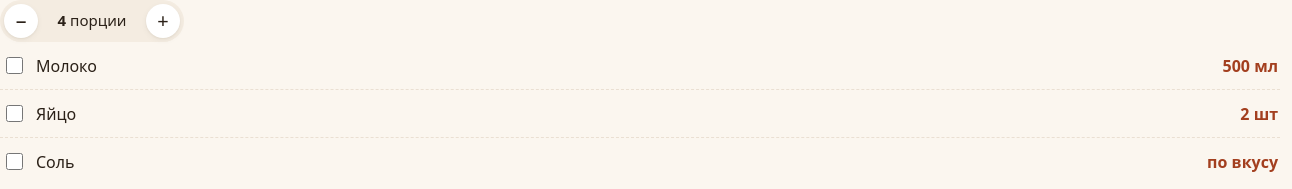
Test case: ServingsControl + IngredientList › пересчитывает количество ингредиентов при изменении порций
The width and height of the screenshot is (1292, 189).
Expected: the text with test id "ingredient-amount" reads "500 мл", top-left (1222, 55), bottom-right (1278, 77)
Click the button named "Уменьшить количество порций".
click(21, 21)  # box top-left (4, 4), bottom-right (38, 38)
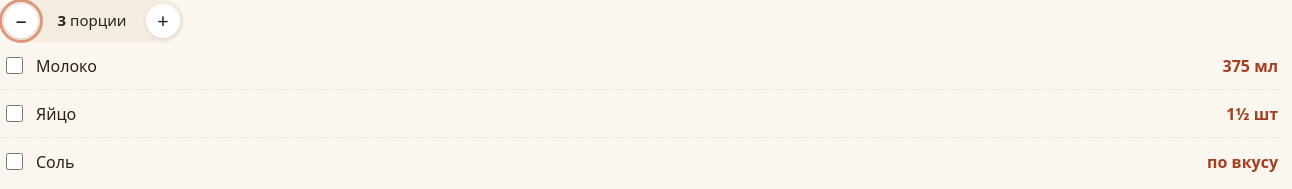
Click the button named "Уменьшить количество порций".
click(21, 21)  # box top-left (4, 4), bottom-right (38, 38)
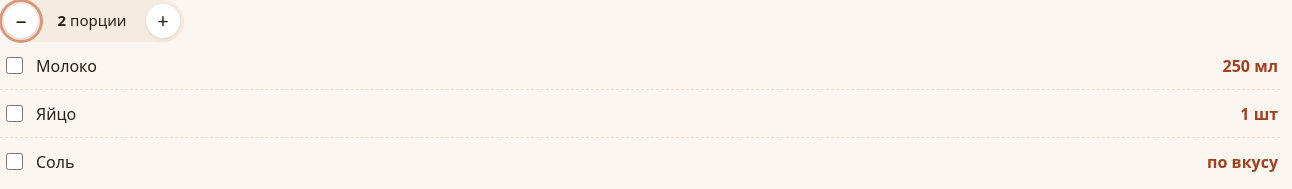
Expected: the text "порции" reads "2 порции", top-left (58, 10), bottom-right (126, 30)
Expected: the text with test id "ingredient-amount" reads "250 мл", top-left (1222, 55), bottom-right (1278, 77)
Expected: the text with test id "ingredient-amount" reads "1 шт", top-left (1240, 103), bottom-right (1278, 125)
